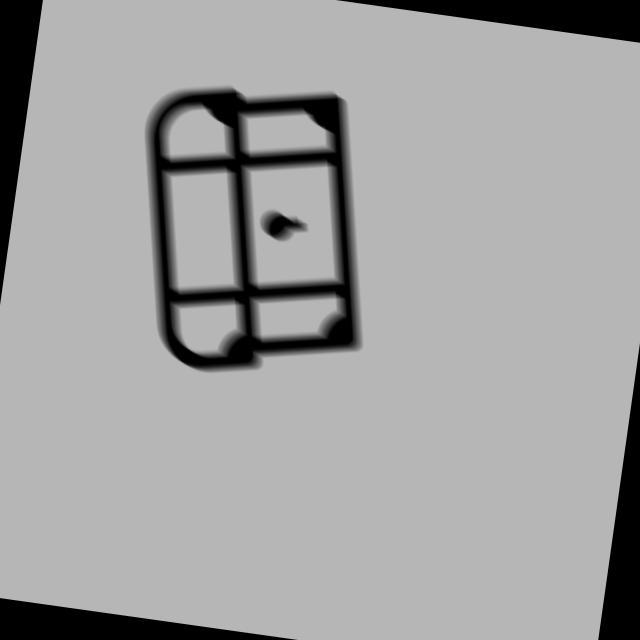treasure_box: (105, 57, 408, 402)
